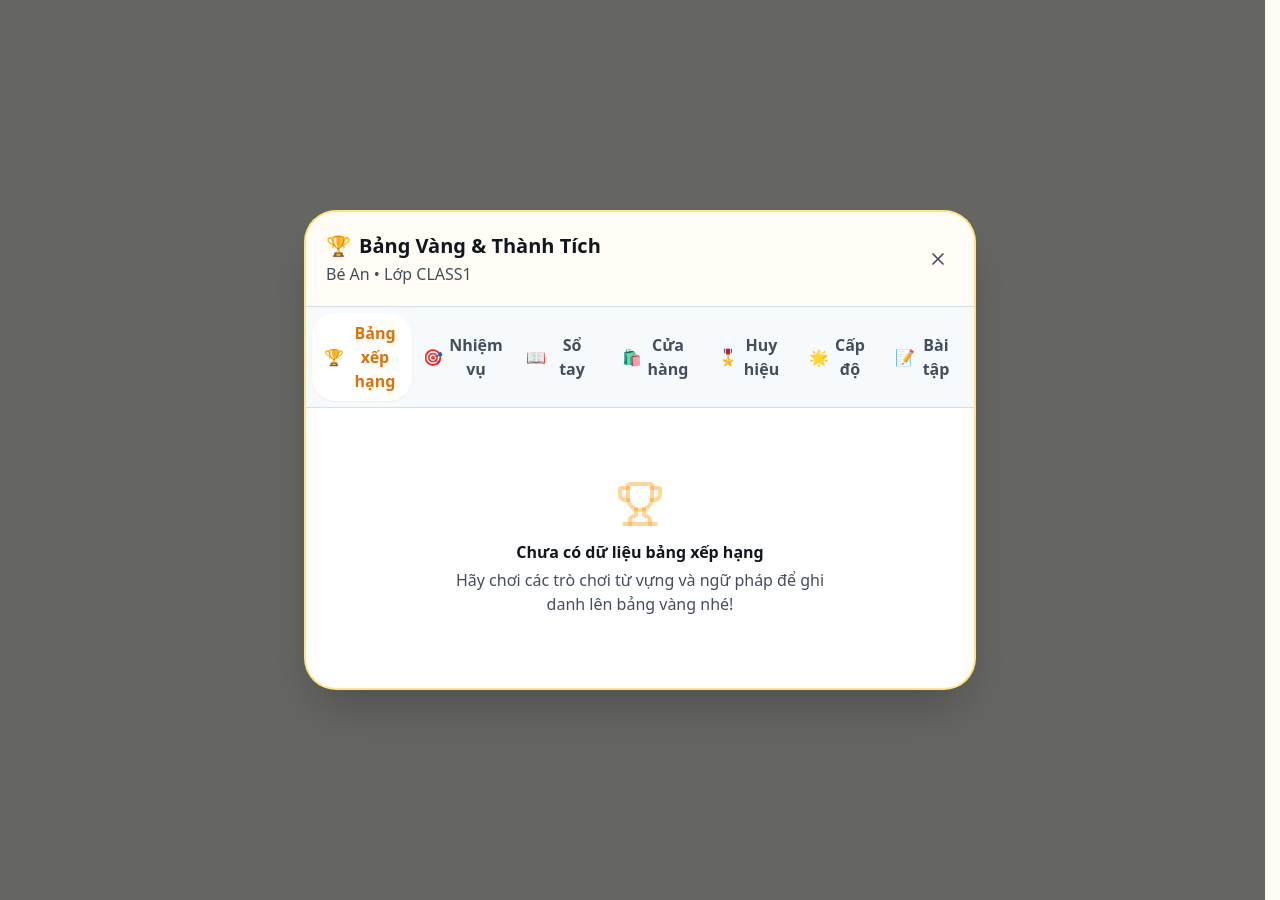
StudentGamificationModal Component › switches to Badges tab and renders unlocked and locked badges
The width and height of the screenshot is (1280, 900).
Click the tab "🎖️ Huy hiệu" at (748, 357), box [706,313,791,401]
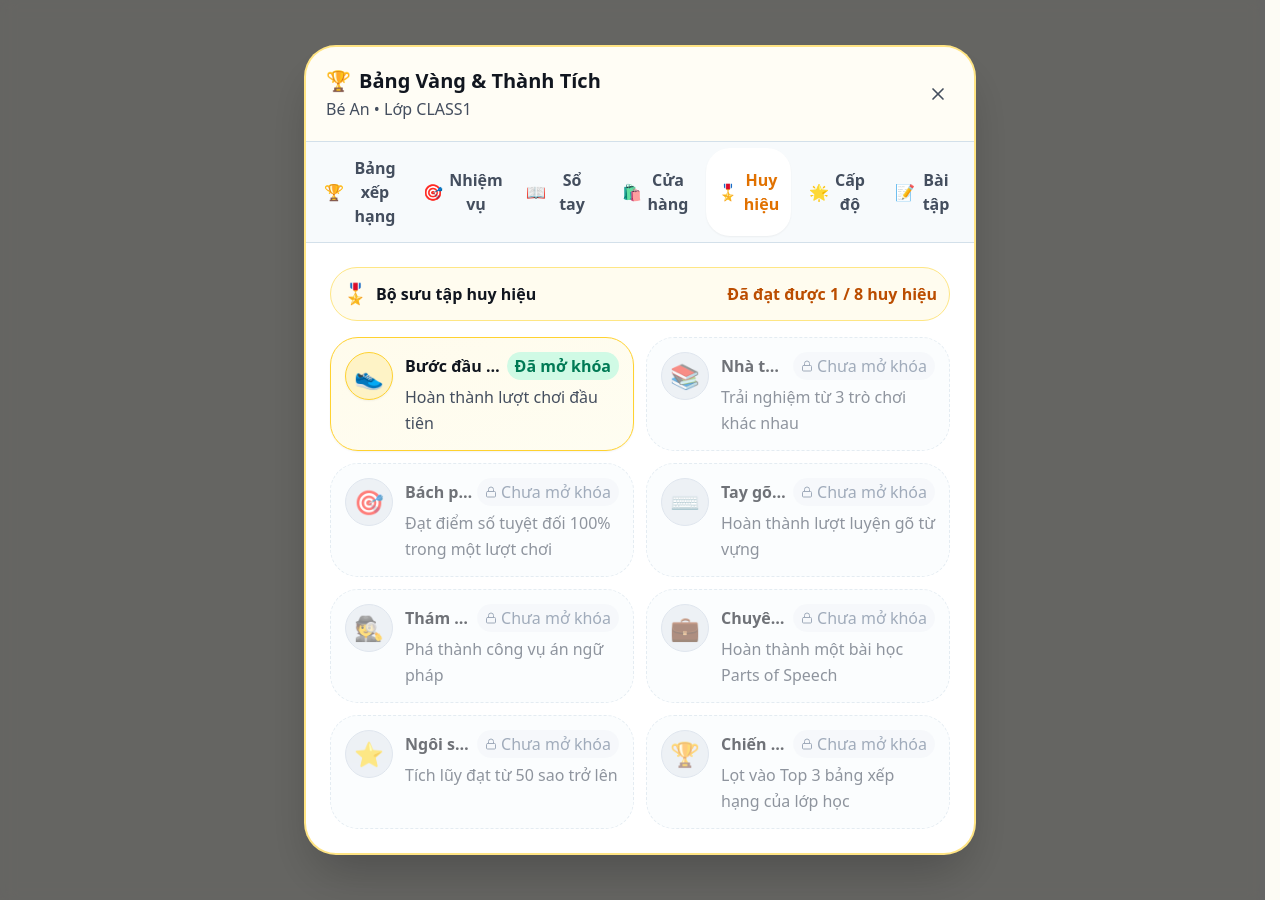
expect the text "Đã đạt được 1 / 8 huy hiệu" is shown: met, box [727,282,937,306]
expect the heading "Bước đầu tiên" is shown: met, box [405,354,503,378]
expect the text "Đã mở khóa" is shown: met, box [507,352,619,380]
